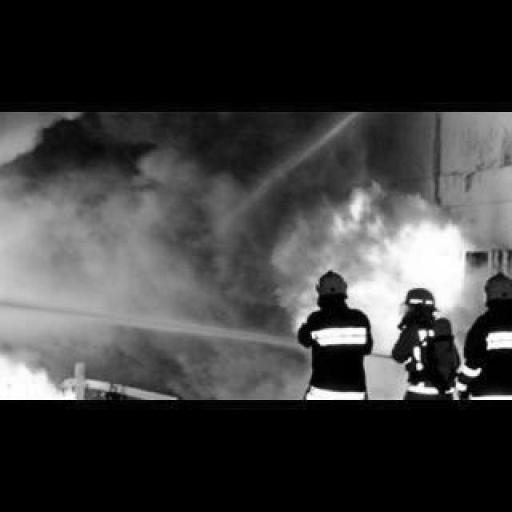smoke: (290, 186, 470, 322)
